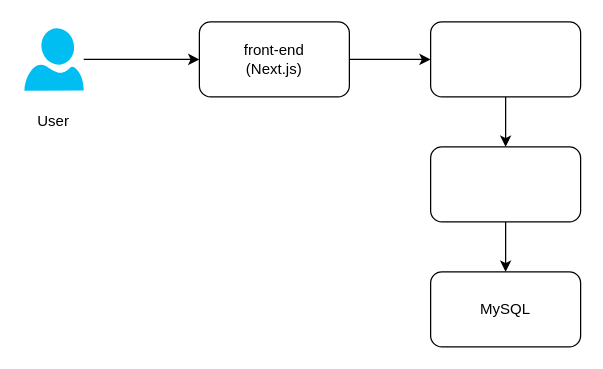
Some shapes in this 603 by 369 pixel diagram are drawn without their labels. The shapes that lost their labels are listed below. From the top down, each one's centre as x and y in pixels, then its label:
At point (505, 59): "Backend (NextAuth)".
At point (505, 184): "Prisma".
